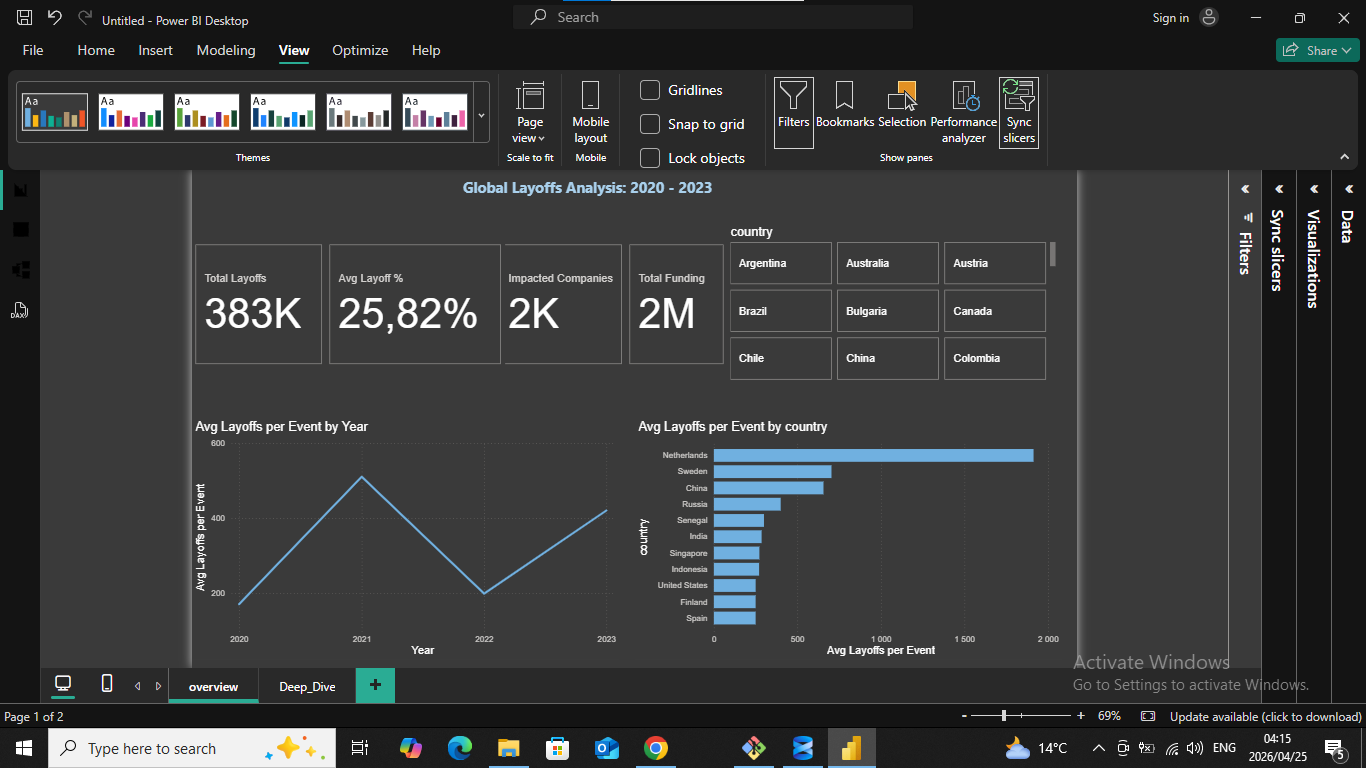

Layout of this report page (visuals, bound fields, positions):
{"tool":"powerbi","page":{"name":"overview","canvas":[1280,720],"ordinal":0},"visuals":[{"type":"lineChart","fields":{"Category":["layoffs_staging.layoff_date.Variation.Date Hierarchy.Year","layoffs_staging.layoff_date.Variation.Date Hierarchy.Quarter","layoffs_staging.layoff_date.Variation.Date Hierarchy.Month","layoffs_staging.layoff_date.Variation.Date Hierarchy.Day"],"Y":["layoffs_staging.Avg Layoffs per Event"]},"box":[0,359.5,618.2,347.7],"z":0},{"type":"clusteredBarChart","fields":{"Category":["layoffs_staging.country"],"Y":["layoffs_staging.Avg Layoffs per Event"]},"box":[640,359.5,618.2,347.7],"z":1000},{"type":"cardVisual","fields":{"Data":["layoffs_staging.Total Layoffs"]},"box":[0,102.7,193.7,183.6],"z":2000},{"type":"cardVisual","fields":{"Data":["layoffs_staging.Impacted Companies"]},"box":[439.5,102.7,188,183.6],"z":3000},{"type":"cardVisual","fields":{"Data":["layoffs_staging.Avg Layoff %"]},"box":[193.7,102.7,258.8,183.6],"z":4000},{"type":"cardVisual","fields":{"Data":["layoffs_staging.Total Funding"]},"box":[627.5,102.7,146,183.6],"z":5000},{"type":"advancedSlicerVisual","fields":{"Values":["layoffs_staging.country"]},"box":[773.5,78.1,480,232.8],"z":6000},{"type":"textbox","box":[0,0,193.7,68.7],"z":7000},{"type":"textbox","title":"Global  Layoffs Analysis: 2020 - 2023","box":[309.4,10.1,524.8,68],"z":8000}]}

Visuals, with their boxes on the page's 1280x720 design canvas (x1, y1, x2, y2). These are canvas units, not pixel positions in the 1366x768 screenshot, which may show the page scaled, cropped or inside an application window:
lineChart - layoffs_staging.layoff_date.Variation.Date Hierarchy.Year x layoffs_staging.layoff_date.Variation.Date Hierarchy.Quarter: left=0, top=360, right=618, bottom=707
clusteredBarChart - layoffs_staging.country x layoffs_staging.Avg Layoffs per Event: left=640, top=360, right=1258, bottom=707
cardVisual - layoffs_staging.Total Layoffs: left=0, top=103, right=194, bottom=286
cardVisual - layoffs_staging.Impacted Companies: left=440, top=103, right=628, bottom=286
cardVisual - layoffs_staging.Avg Layoff %: left=194, top=103, right=452, bottom=286
cardVisual - layoffs_staging.Total Funding: left=628, top=103, right=774, bottom=286
advancedSlicerVisual - layoffs_staging.country: left=774, top=78, right=1254, bottom=311
textbox: left=0, top=0, right=194, bottom=69
"Global  Layoffs Analysis: 2020 - 2023" textbox: left=309, top=10, right=834, bottom=78
